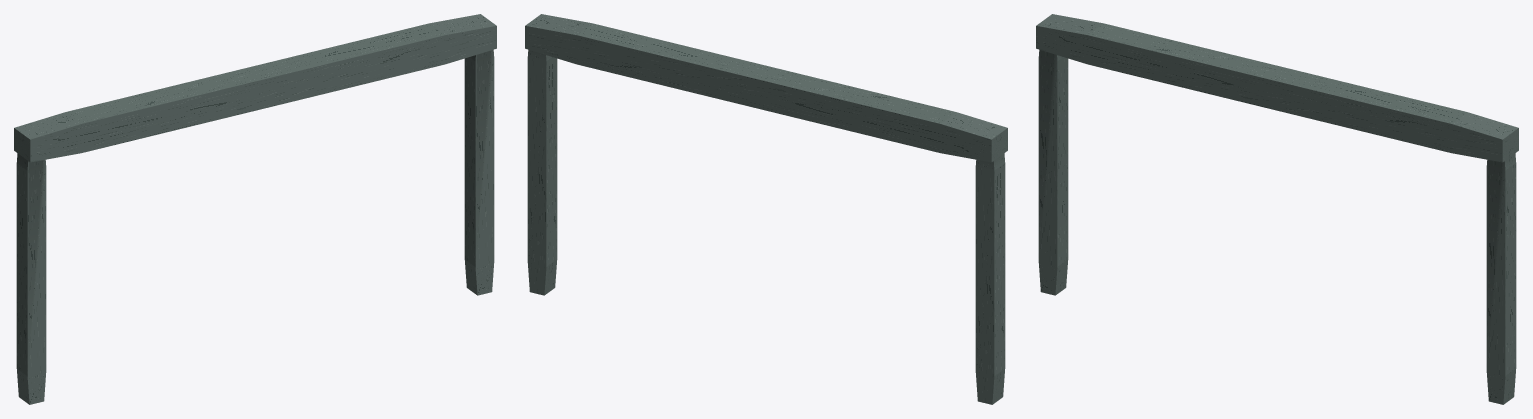
The model's file is railing.glb.
3 renders of one model, left to right at view 1: azimuth 30°, elevation 25°; view 2: azimuth 150°, elevation 25°; view 3: azimuth 330°, elevation 25°, orthographic.
Visible parts, largest first — view 1: top, post-1, post1; view 2: top, post-1, post1; view 3: top, post1, post-1.
Part boxes in pixels (x1,y1,x2,y2): top: (14, 14, 496, 162); post-1: (16, 153, 46, 404); post1: (464, 49, 494, 295); top: (525, 14, 1007, 162); post-1: (975, 153, 1005, 404); post1: (527, 49, 557, 295); top: (1036, 14, 1518, 162); post1: (1486, 153, 1516, 404); post-1: (1038, 49, 1068, 295).
Bounding box in the file's own units: 2 × 1.11 × 0.1199.
1 material, 1 textured.
